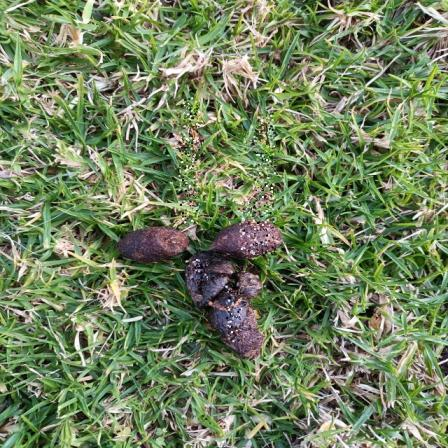dog-poop: (190, 214, 267, 356), (117, 221, 185, 267)
